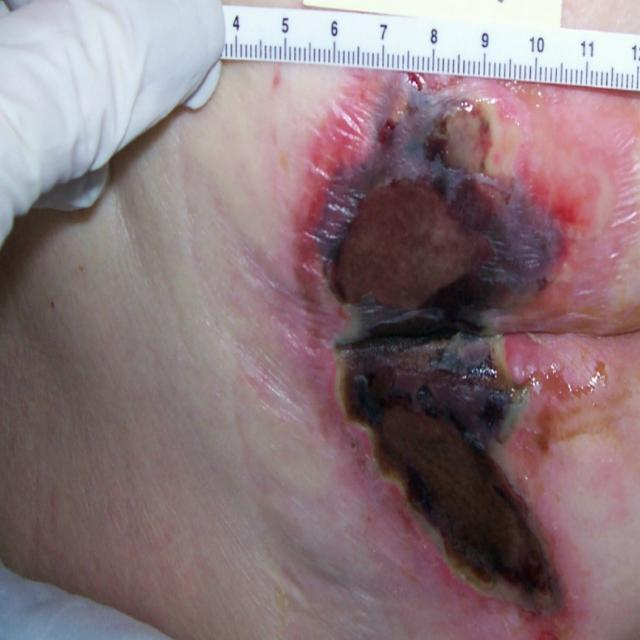Unstageable: (318, 81, 584, 608)
